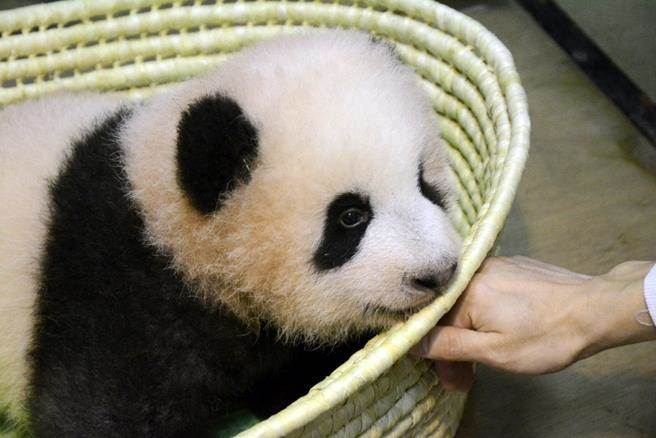panda: (5, 25, 459, 438)
